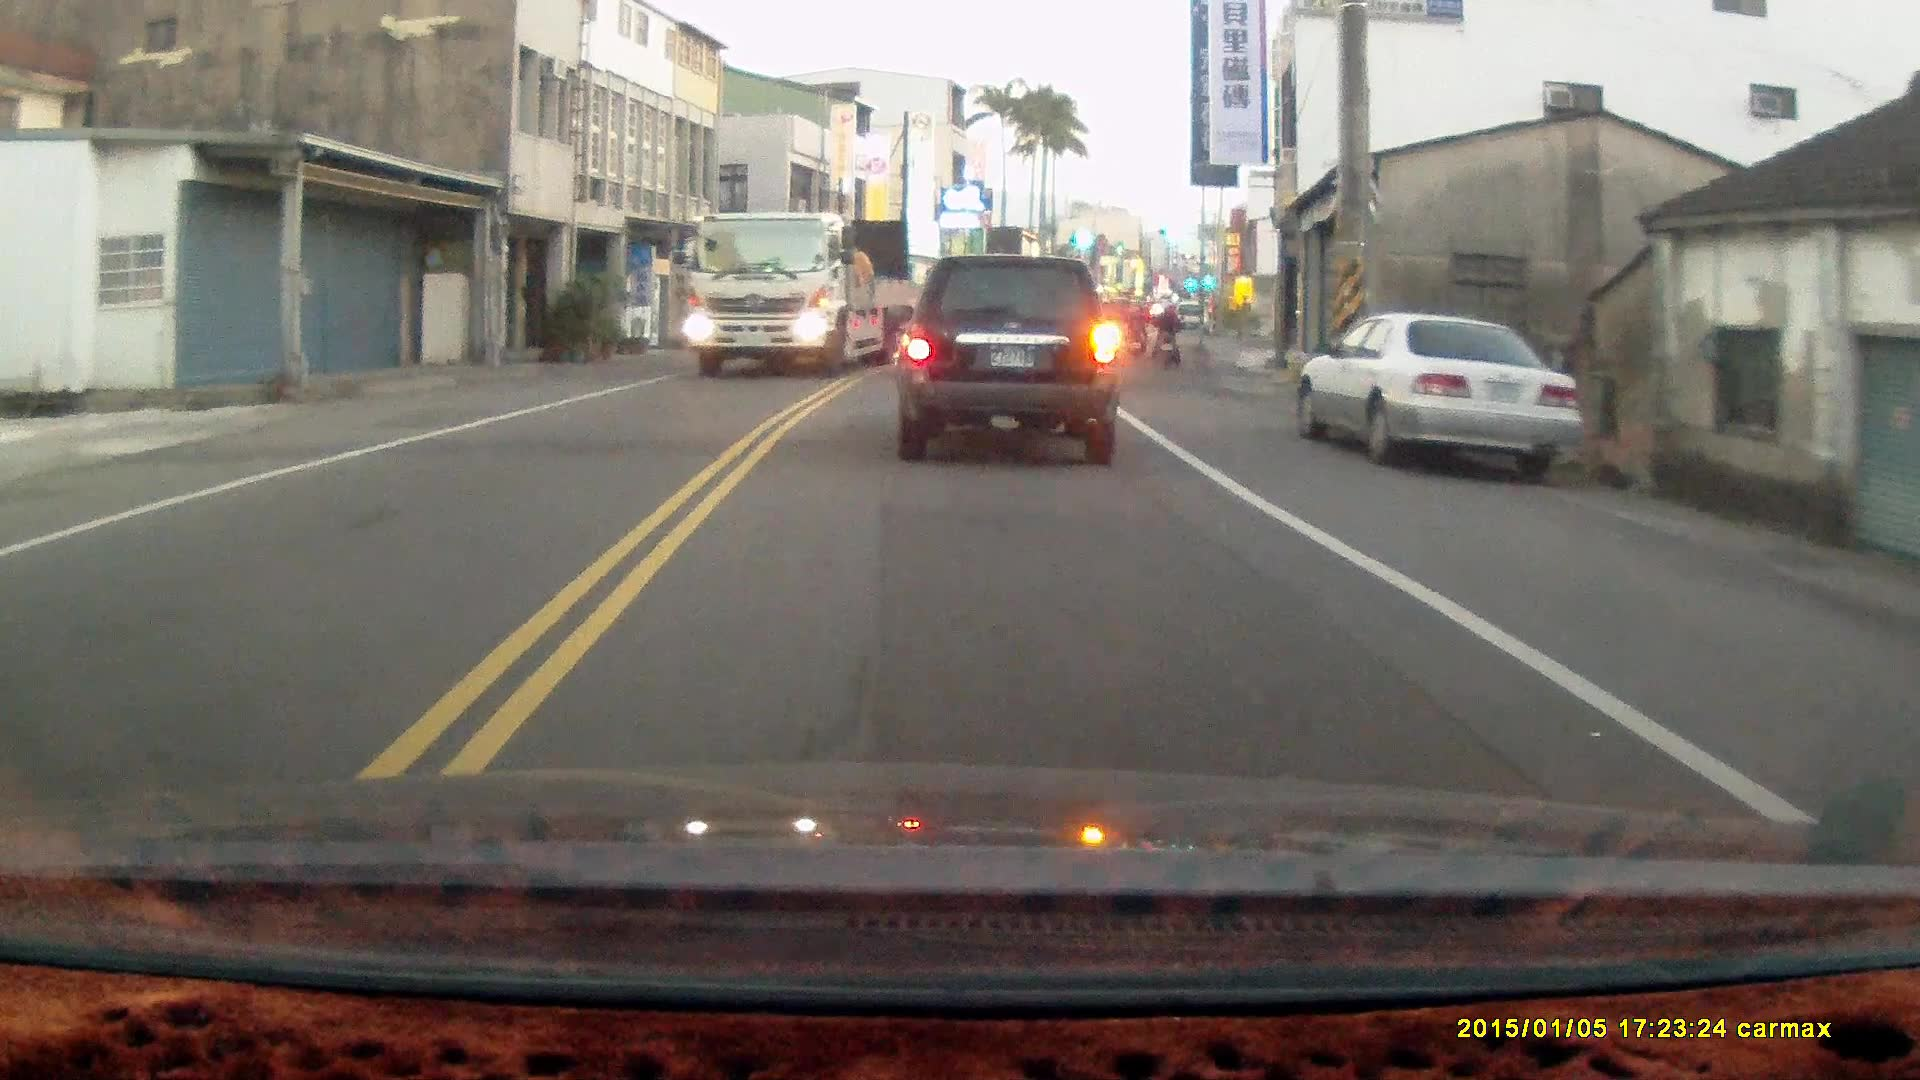rider: (1151, 295, 1182, 371), (1122, 298, 1147, 361)
vehicle: (892, 248, 1124, 462), (1299, 313, 1582, 474), (683, 206, 916, 375)
